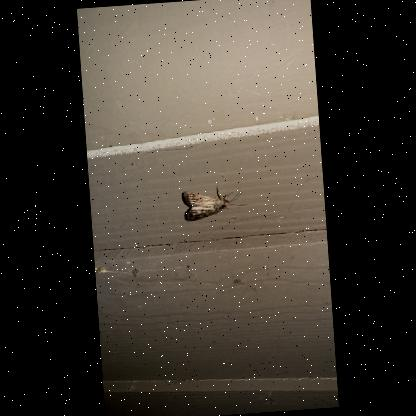Fall Armyworm Moth: (180, 180, 250, 224)
